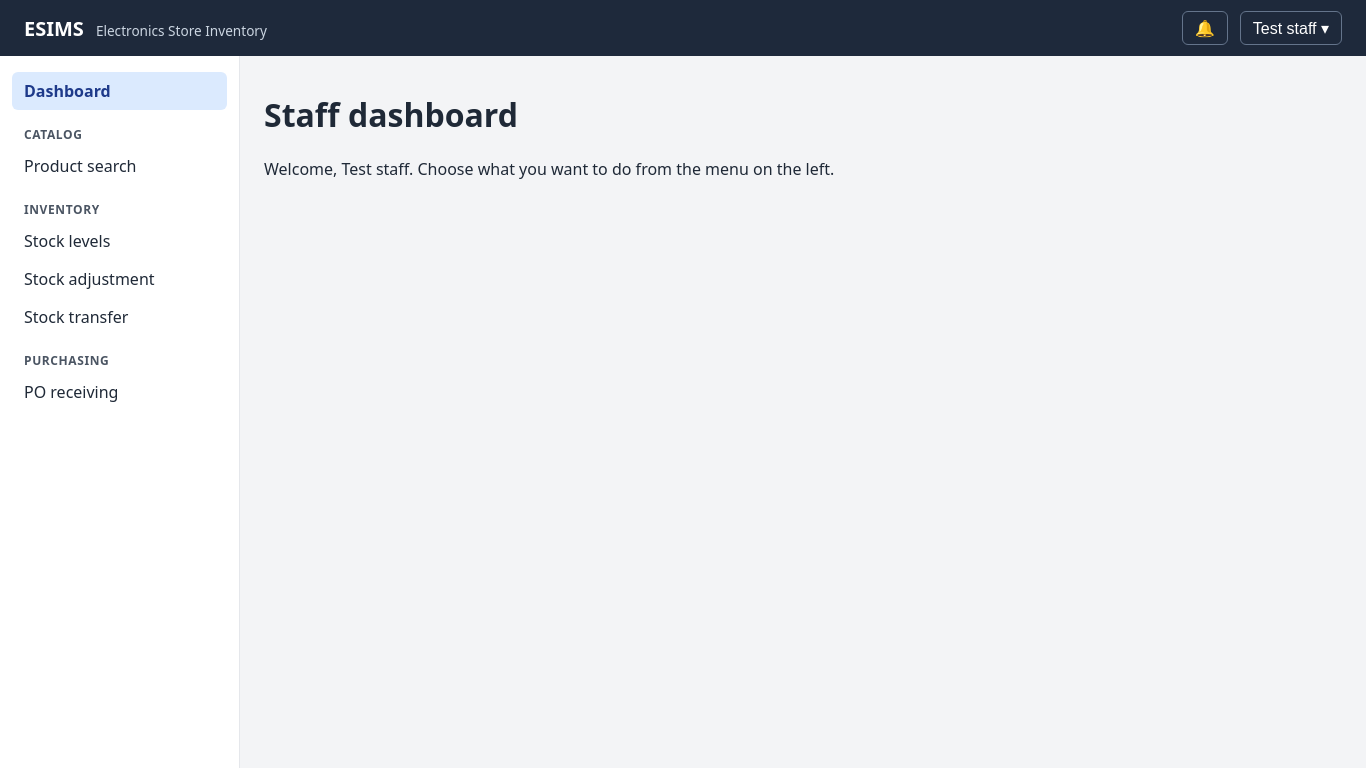
Escape closes the user menu
This screenshot has width=1366, height=768.
Click the button "Test staff ▾" at (1291, 28), box x1=1240 y1=11 x2=1342 y2=45
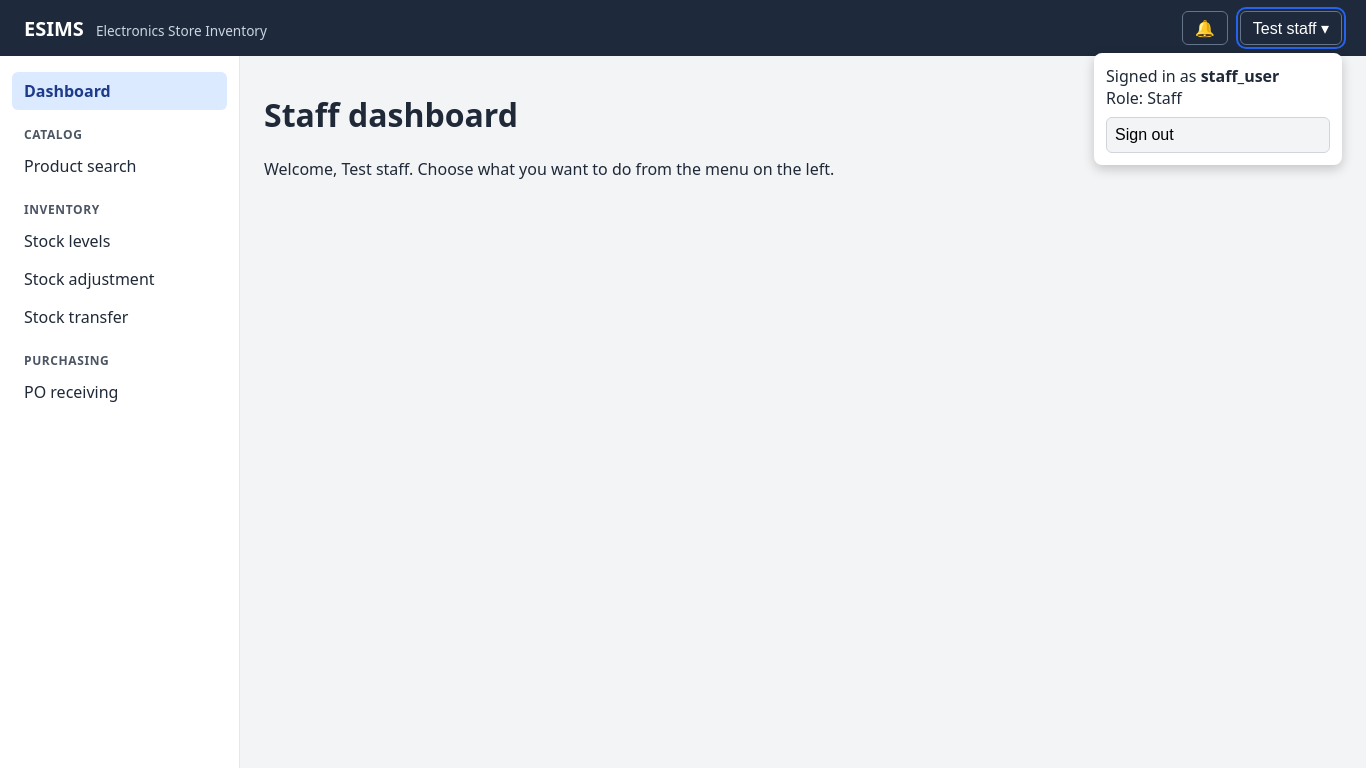
Press Escape
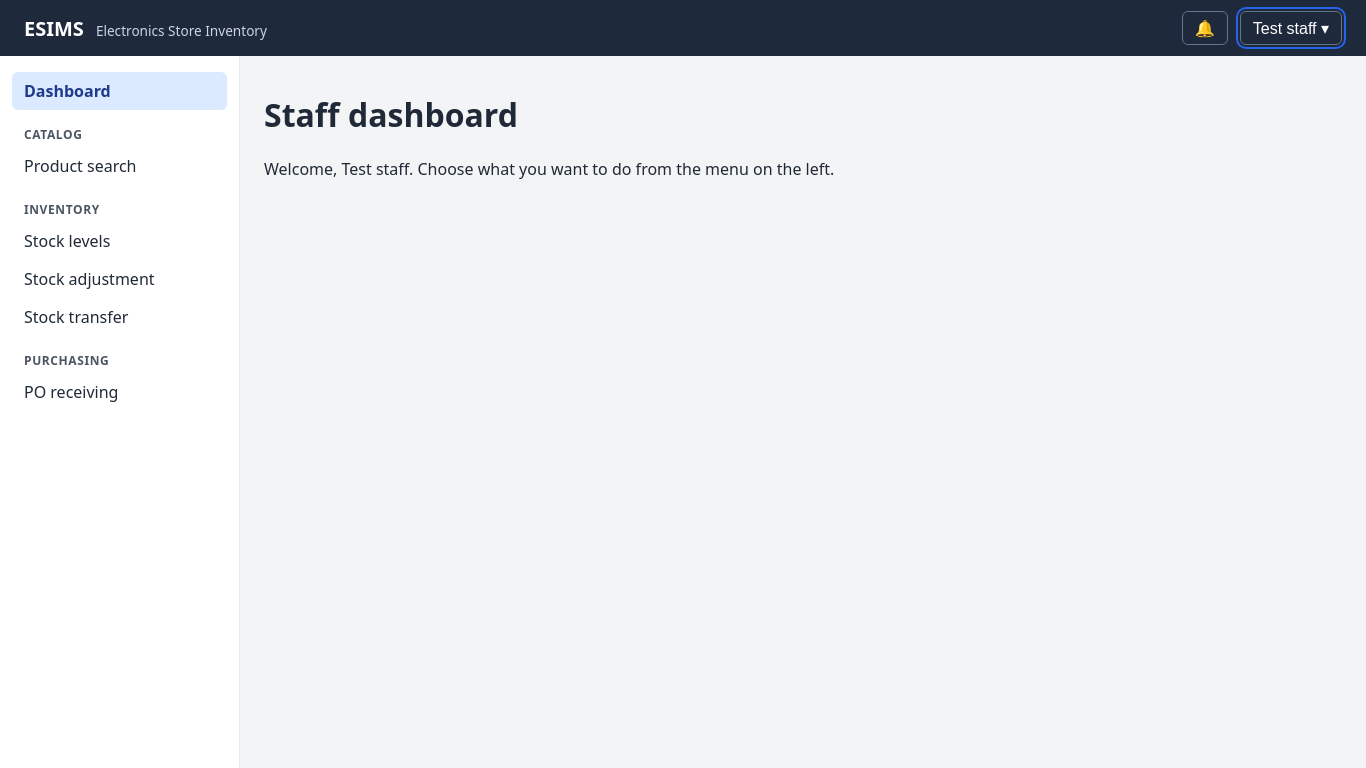
Expected: the menu is gone
